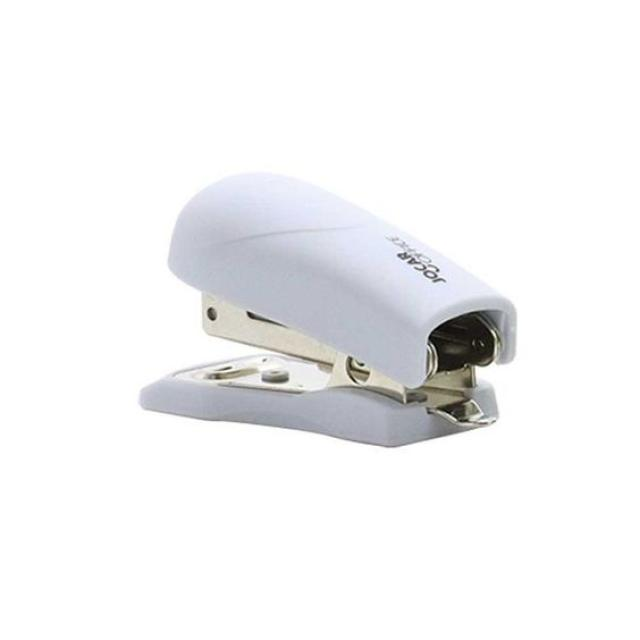Stapler: (71, 139, 577, 494)
